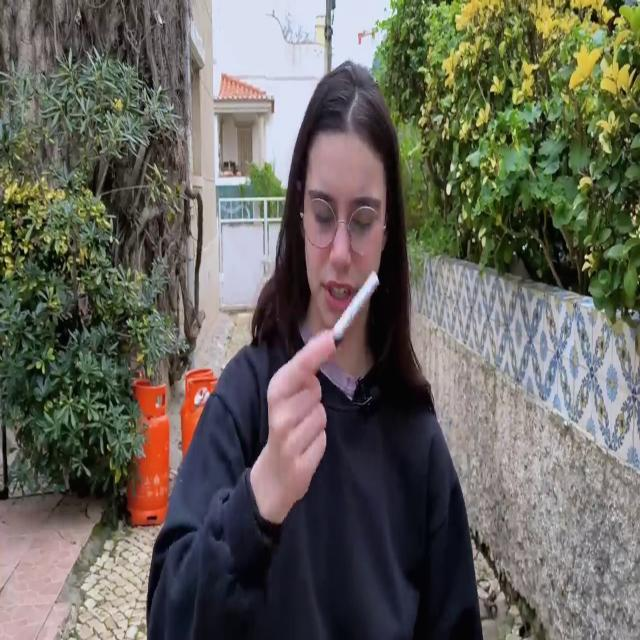Smooking: (333, 253, 384, 363)
